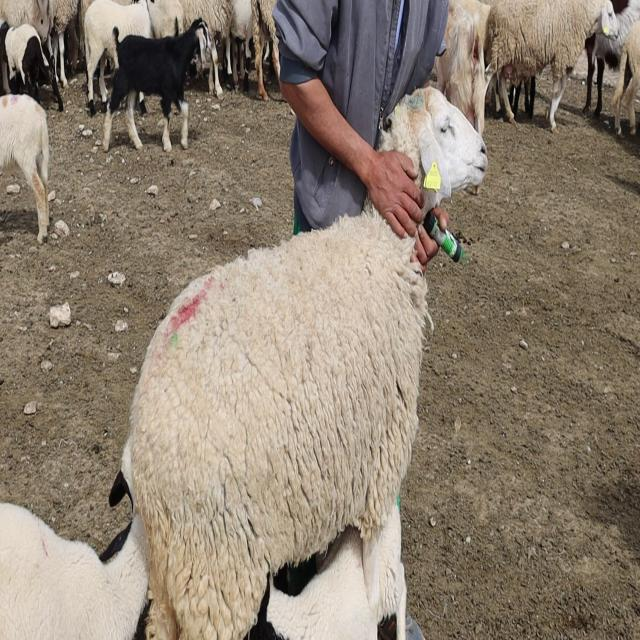Score_4: (127, 211, 427, 639)
